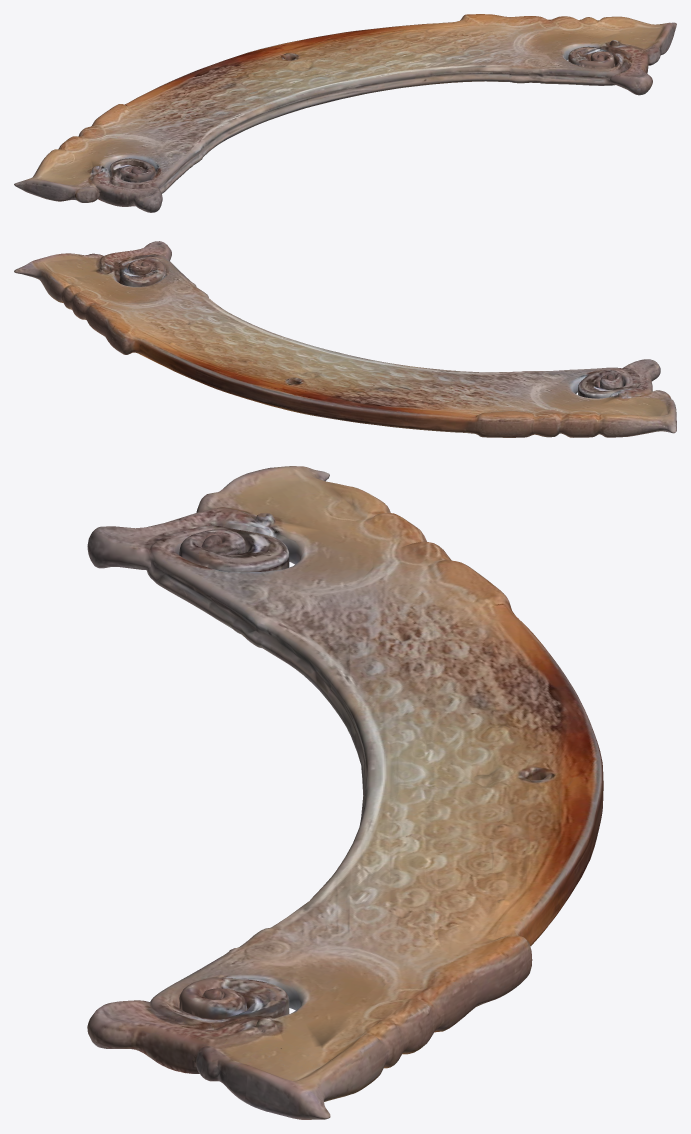
The model's file is double-dragon-heng-roaming.glb.
3 renders of one model, top to bottom at view 1: azimuth 30°, elevation 25°; view 2: azimuth 150°, elevation 25°; view 3: azimuth 270°, elevation 25°, orthographic. The views are drawn at different scales.
Visible parts, largest first — view 1: node_0; view 2: node_0; view 3: node_0.
Boxes of the visible parts, bbox=[...] form: node_0: bbox=[14, 14, 676, 212]; node_0: bbox=[14, 241, 676, 437]; node_0: bbox=[87, 466, 603, 1119].
Bounding box in the file's own units: 1.2 × 0.0428 × 0.4055.
1 material, 1 textured.
